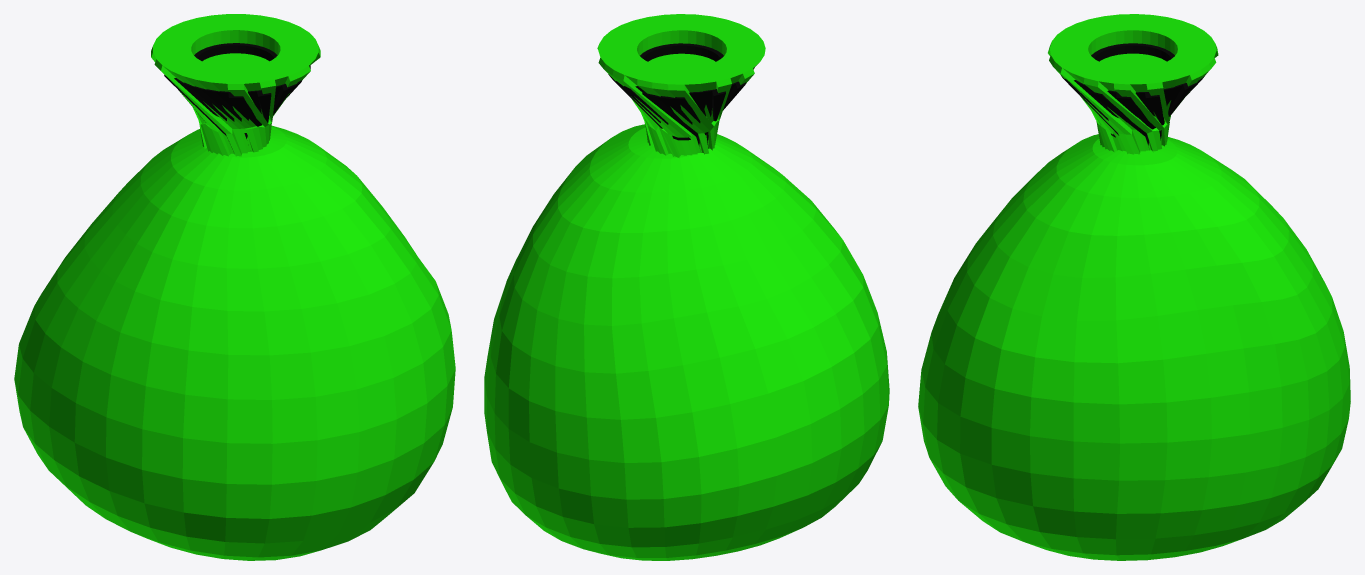
The model's file is SampahVer3.0.fbx.
3 renders of one model, left to right at view 1: azimuth 30°, elevation 25°; view 2: azimuth 150°, elevation 25°; view 3: azimuth 270°, elevation 25°, orthographic.
Parts seen in each view (by area): view 1: Sampah Grapic, Sampah; view 2: Sampah Grapic, Sampah; view 3: Sampah Grapic, Sampah.
Part boxes in pixels (<box>): Sampah Grapic: <box>14,14,455,560</box>; Sampah: <box>164,43,310,151</box>; Sampah Grapic: <box>484,14,889,560</box>; Sampah: <box>608,43,754,148</box>; Sampah Grapic: <box>918,14,1350,560</box>; Sampah: <box>1061,43,1205,145</box>.
Bounding box in the file's own units: 118 × 152 × 124.
